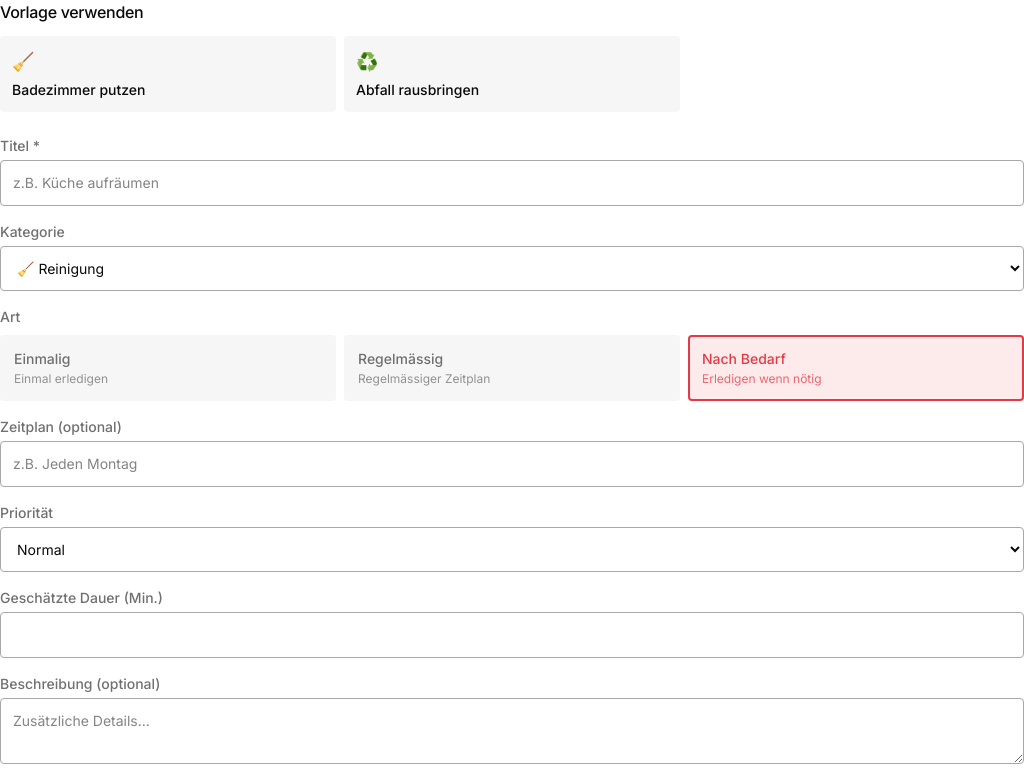
Test: CreateChoreForm › fills in title and instructions when a template is applied
The image size is (1024, 768).
Click the button "🧹 Badezimmer putzen": (79, 90) [0,36,336,112]
(page scrolled)
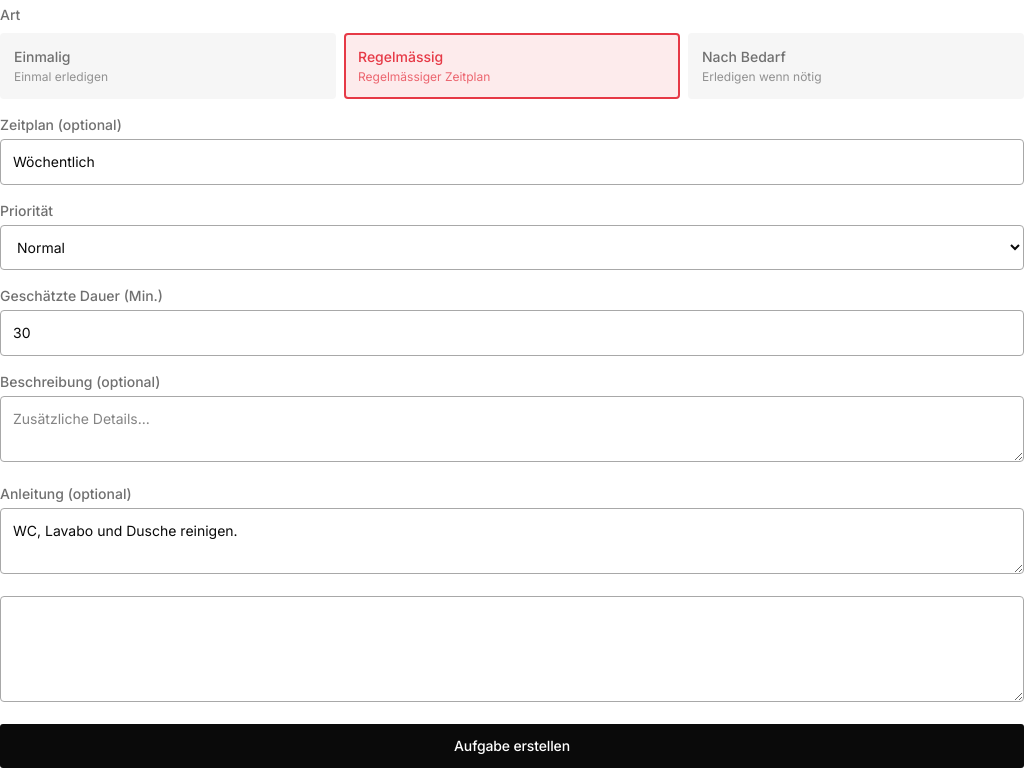
Result: the text box labelled "Anleitung (optional)" holds "WC, Lavabo und Dusche reinigen." at [0,508,1023,574]
